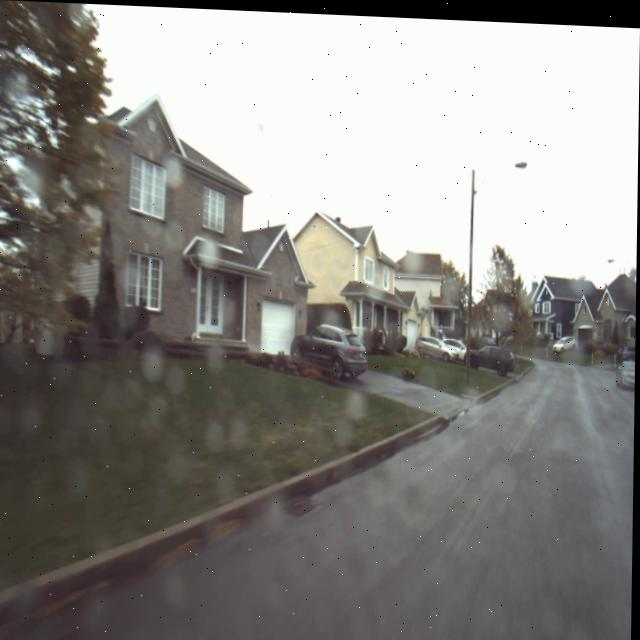car: (287, 313, 380, 379)
